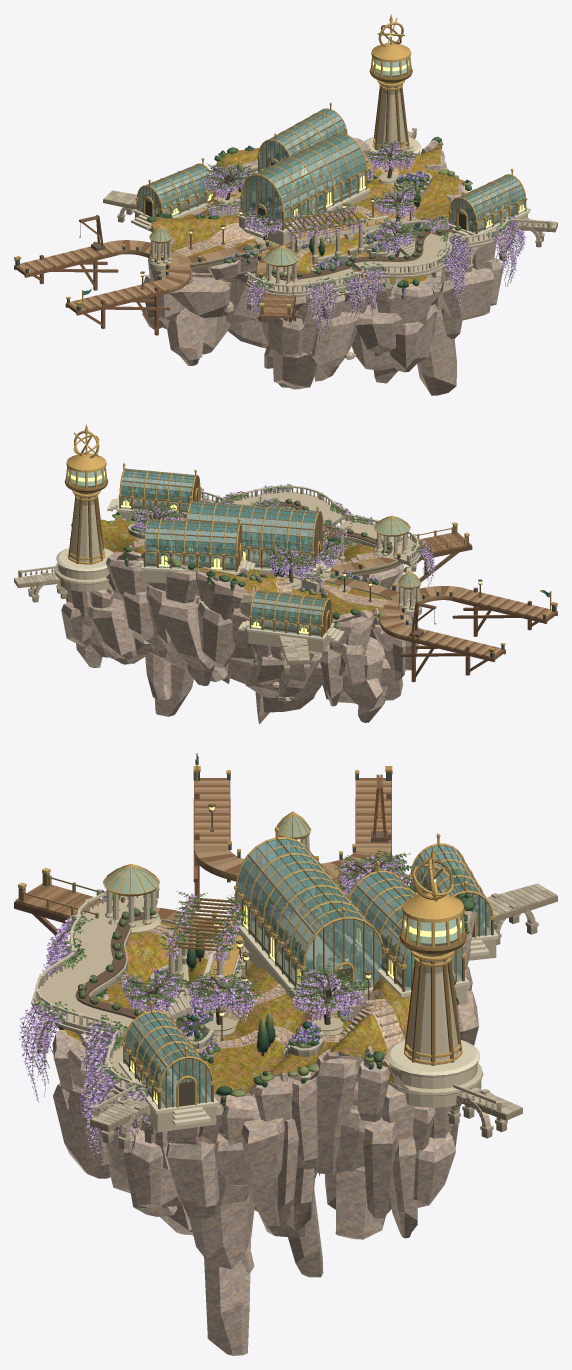
The model's file is flight-town-glasshouse.glb.
3 views of the same model, one above another, from view 1: azimuth 30°, elevation 25°; view 2: azimuth 150°, elevation 25°; view 3: azimuth 270°, elevation 25° (orthographic). The views are drawn at different scales.
Visible parts, largest first — view 1: Fractured bedrock and hanging outcrops, Quays and working piers, Great propagation hall, Stonework, arcade and retaining walls, Continuous hillside terraces, Wind-shaped greenery and crops, Fruit and seasonal flowers, The keeper's brass lantern, Lower fernery, Exchange orangery, Upper winterhouse, Wisteria walk and glass cupola (+11 smaller); view 2: Fractured bedrock and hanging outcrops, Quays and working piers, Great propagation hall, The keeper's brass lantern, Upper winterhouse, Exchange orangery, Stonework, arcade and retaining walls, Lower fernery, Continuous hillside terraces, Wind-shaped greenery and crops, Stepped lanes and inlaid courts, Century wisteria 13 (+9 smaller); view 3: Fractured bedrock and hanging outcrops, Quays and working piers, Great propagation hall, The keeper's brass lantern, Stonework, arcade and retaining walls, Continuous hillside terraces, Wind-shaped greenery and crops, Lower fernery, Upper winterhouse, Fruit and seasonal flowers, Wisteria walk and glass cupola, Exchange orangery (+9 smaller).
Part boxes in pixels (left/top/right/bottom): Fractured bedrock and hanging outcrops: left=142, top=137, right=502, bottom=395; Quays and working piers: left=14, top=127, right=557, bottom=335; Great propagation hall: left=237, top=127, right=370, bottom=245; Stonework, arcade and retaining walls: left=188, top=157, right=510, bottom=320; Continuous hillside terraces: left=151, top=144, right=464, bottom=288; Wind-shaped greenery and crops: left=146, top=129, right=525, bottom=342; Fruit and seasonal flowers: left=196, top=141, right=525, bottom=340; The keeper's brass lantern: left=364, top=14, right=421, bottom=157; Lower fernery: left=447, top=168, right=530, bottom=248; Exchange orangery: left=131, top=158, right=214, bottom=231; Upper winterhouse: left=255, top=102, right=349, bottom=192; Wisteria walk and glass cupola: left=276, top=202, right=373, bottom=260; Fractured bedrock and hanging outcrops: left=61, top=517, right=418, bottom=724; Quays and working piers: left=14, top=527, right=557, bottom=682; Great propagation hall: left=185, top=496, right=333, bottom=580; The keeper's brass lantern: left=54, top=424, right=113, bottom=591; Upper winterhouse: left=131, top=513, right=255, bottom=583; Exchange orangery: left=238, top=584, right=344, bottom=652; Stonework, arcade and retaining walls: left=128, top=485, right=420, bottom=599; Lower fernery: left=107, top=463, right=202, bottom=520; Continuous hillside terraces: left=101, top=516, right=405, bottom=619; Wind-shaped greenery and crops: left=71, top=484, right=435, bottom=628; Stepped lanes and inlaid courts: left=124, top=517, right=390, bottom=607; Century wisteria 13: left=263, top=543, right=320, bottom=590; Fractured bedrock and hanging outcrops: left=52, top=873, right=478, bottom=1355; Quays and working piers: left=14, top=774, right=557, bottom=1149; Great propagation hall: left=230, top=827, right=385, bottom=1012; The keeper's brass lantern: left=386, top=848, right=483, bottom=1107; Stonework, arcade and retaining walls: left=31, top=886, right=367, bottom=1143; Continuous hillside terraces: left=64, top=870, right=465, bottom=1092; Wind-shaped greenery and crops: left=21, top=860, right=475, bottom=1163; Lower fernery: left=118, top=1001, right=218, bottom=1132; Upper winterhouse: left=345, top=861, right=469, bottom=1004; Fruit and seasonal flowers: left=19, top=889, right=464, bottom=1160; Wisteria walk and glass cupola: left=157, top=891, right=253, bottom=996; Exchange orangery: left=409, top=833, right=498, bottom=960.
Size of the model in its own units: 51.89 by 35.95 by 34.5.
22 materials, 3 textured.
